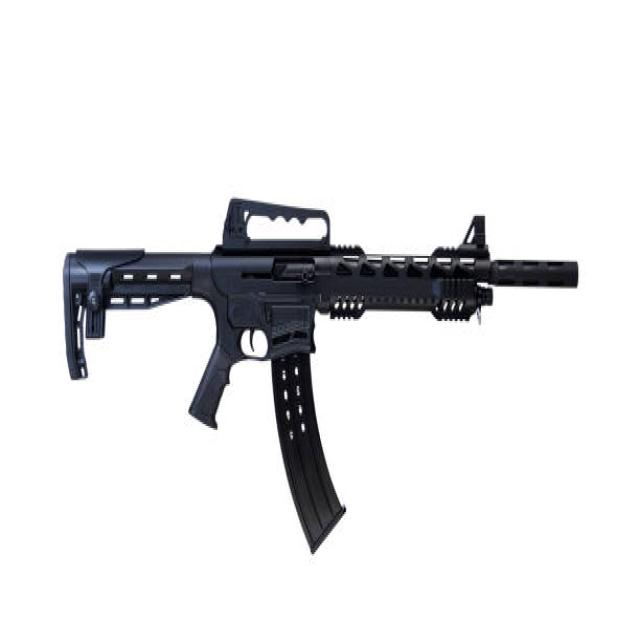rifle: (62, 193, 586, 562)
